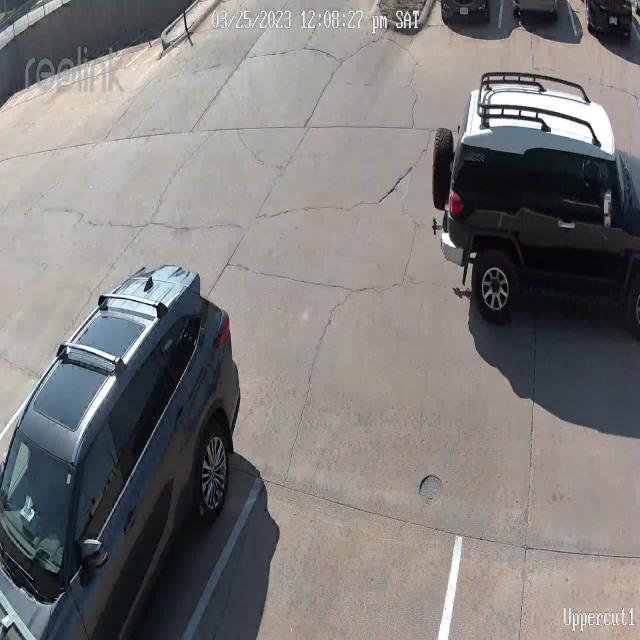Car: (425, 71, 640, 342)
Empty-slot: (200, 444, 465, 640), (446, 509, 640, 640), (0, 271, 74, 433)
Slot-Occupied: (0, 296, 211, 607), (440, 0, 489, 38), (587, 0, 634, 39), (511, 5, 552, 23)
